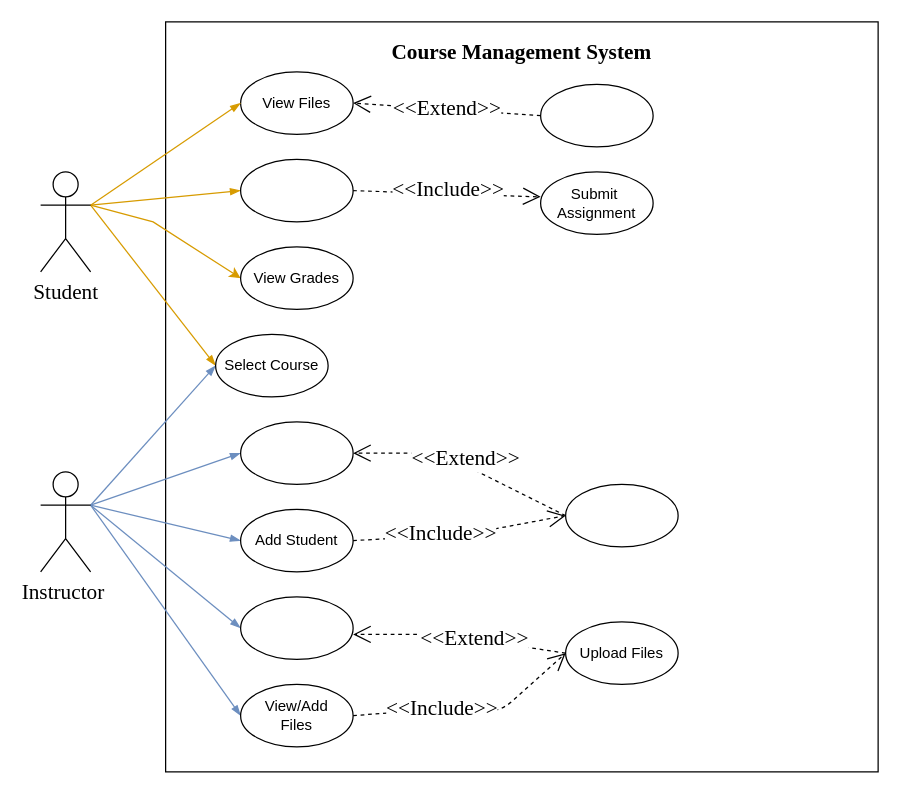
The diagram is 900 pixels wide and 794 high, and some of its shapes have lost their labels. Each missing label, with the centre of its shape:
Create/Edit Assignments: the point at 296,627
Download Files: the point at 596,115
Enter Student ID/Name: the point at 621,515
View Assignments: the point at 296,190
View Student List: the point at 296,452
